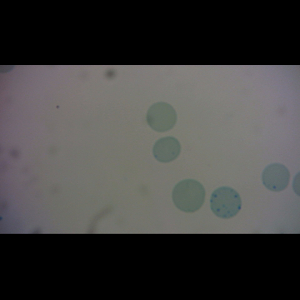erythrocyte: (171, 178, 206, 213), (146, 102, 178, 133)
punctate reticulocyte: (208, 186, 243, 219), (261, 162, 291, 192), (152, 136, 182, 163)
